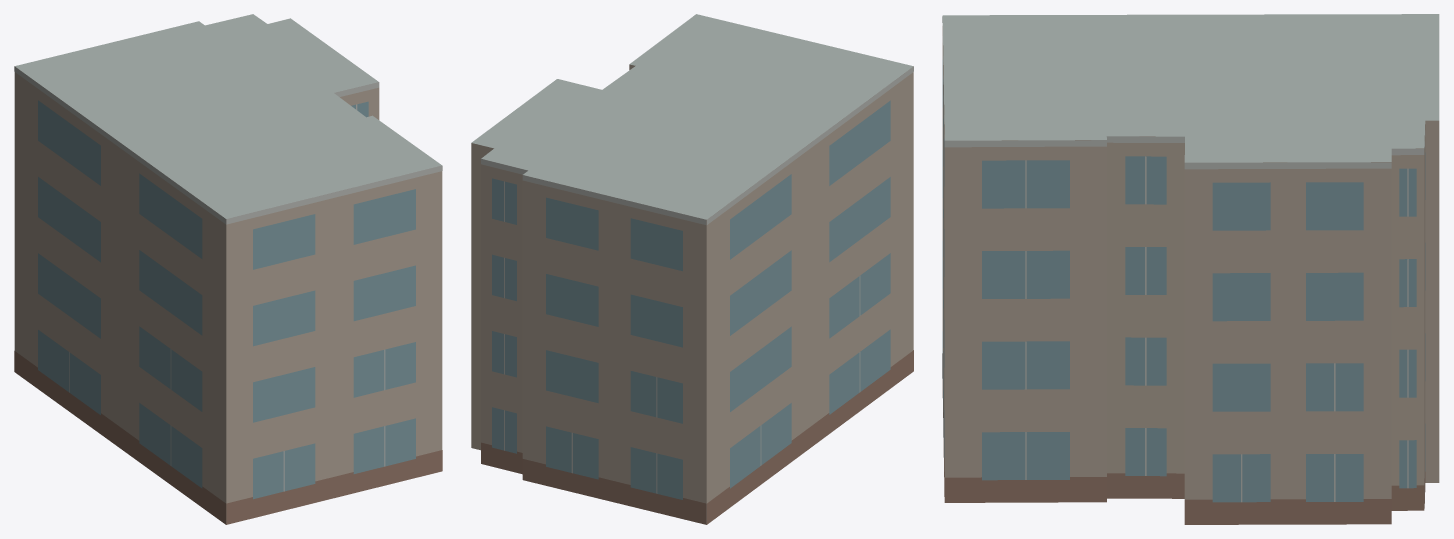
The model's file is survey-upis-32520154.glb.
3 views of the same model, side by side, from view 1: azimuth 30°, elevation 25°; view 2: azimuth 150°, elevation 25°; view 3: azimuth 270°, elevation 25° (orthographic). The views are drawn at different scales.
Visible parts, largest first — view 1: survey-upis-32520154.tmp; view 2: survey-upis-32520154.tmp; view 3: survey-upis-32520154.tmp.
Part boxes in pixels (x1,y1,x2,y2): survey-upis-32520154.tmp: (14, 14, 442, 524); survey-upis-32520154.tmp: (471, 14, 913, 524); survey-upis-32520154.tmp: (942, 14, 1439, 524).
Bounding box in the file's own units: 11.87 × 13.47 × 16.75.
